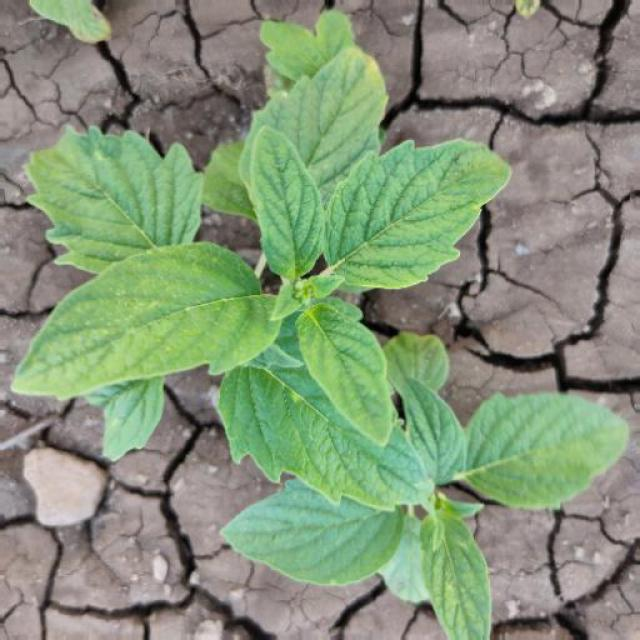crop: (26, 72, 544, 444), (192, 366, 640, 625)
